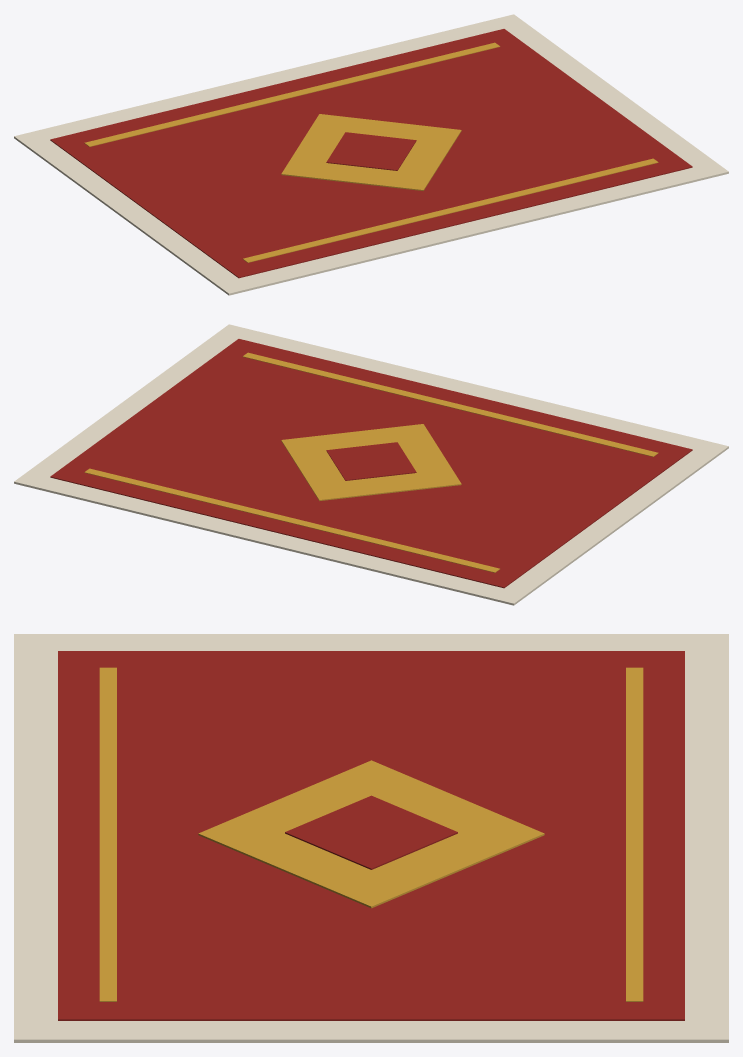
File: rug.glb
3 views of the same model, one above another, from view 1: azimuth 30°, elevation 25°; view 2: azimuth 150°, elevation 25°; view 3: azimuth 270°, elevation 25° (orthographic). The views are drawn at different scales.
Visible parts, largest first — view 1: rug; view 2: rug; view 3: rug.
Boxes of the visible parts, bbox=[...] form: rug: bbox=[14, 14, 728, 295]; rug: bbox=[14, 324, 728, 605]; rug: bbox=[14, 634, 728, 1042].
Size of the model in its own units: 3.92 by 0.036 by 2.92.
